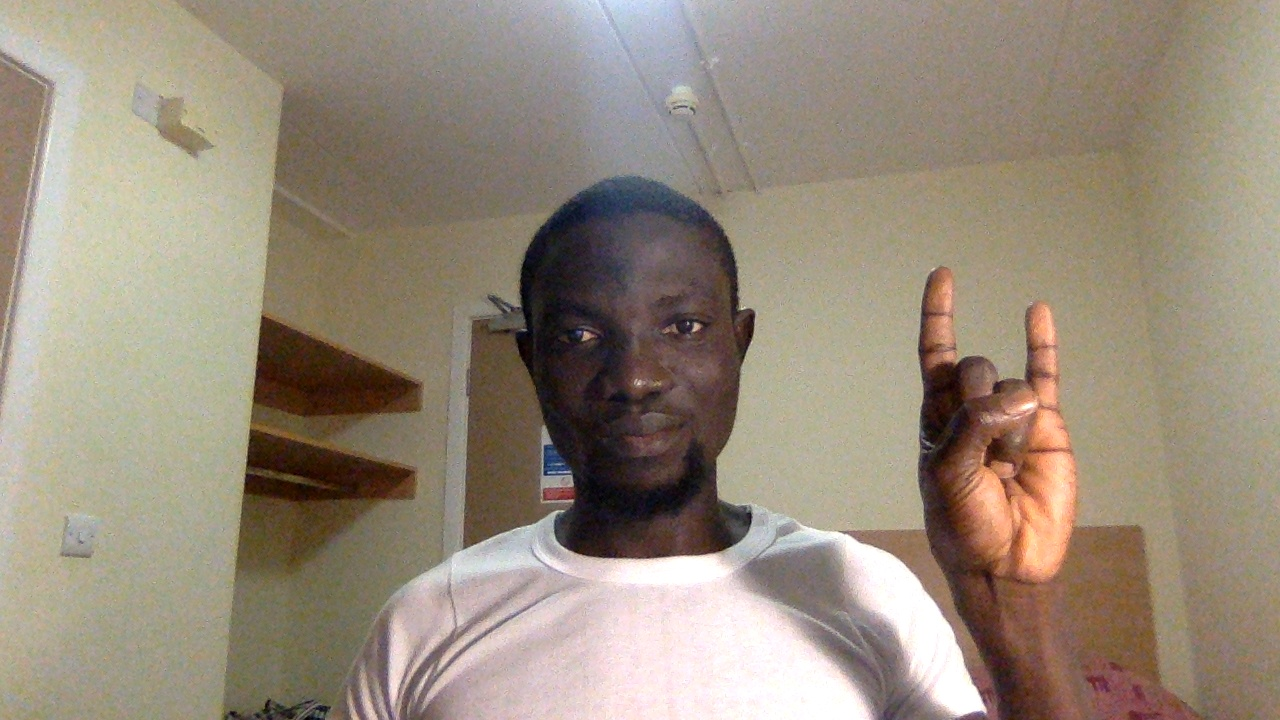I Love You: (898, 252, 1121, 610)
